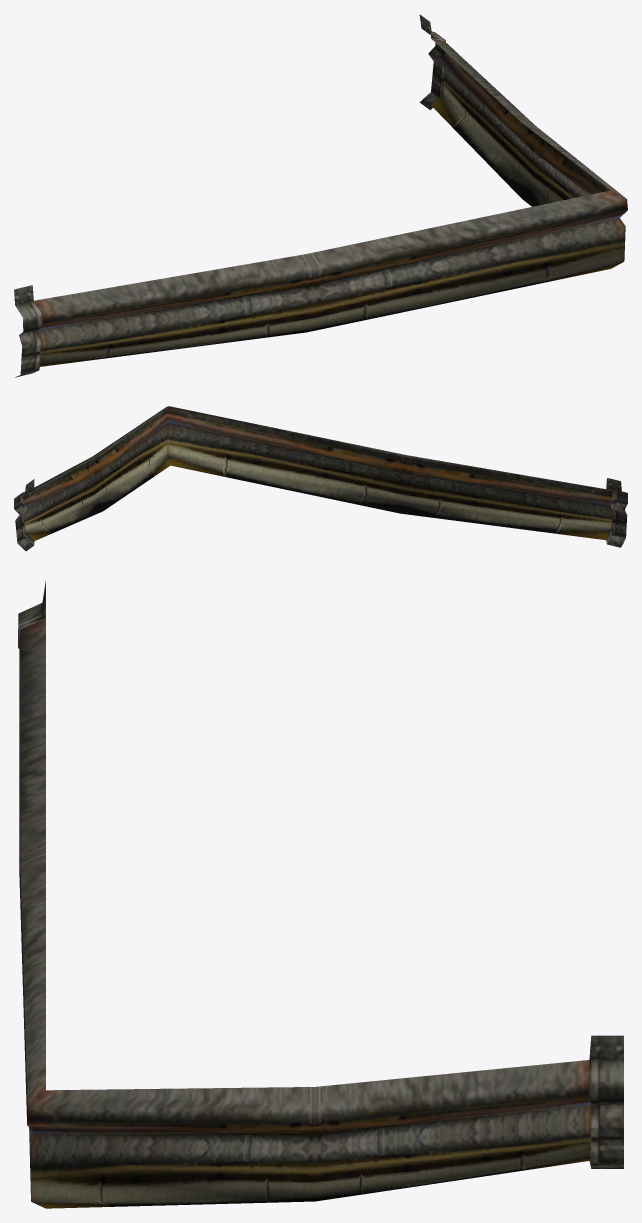
The model's file is M12_SidePipes_H.glb.
3 views of the same model, one above another, from view 1: azimuth 30°, elevation 25°; view 2: azimuth 150°, elevation 25°; view 3: azimuth 270°, elevation 25° (orthographic). The views are drawn at different scales.
Visible parts, largest first — view 1: M12_SIDEPIPES_H; view 2: M12_SIDEPIPES_H; view 3: M12_SIDEPIPES_H.
Boxes of the visible parts, bbox=[...] form: M12_SIDEPIPES_H: bbox=[14, 14, 627, 377]; M12_SIDEPIPES_H: bbox=[14, 406, 627, 551]; M12_SIDEPIPES_H: bbox=[18, 580, 623, 1208].
Bounding box in the file's own units: 4.62 × 0.9 × 2.62.
1 material, 1 textured.
